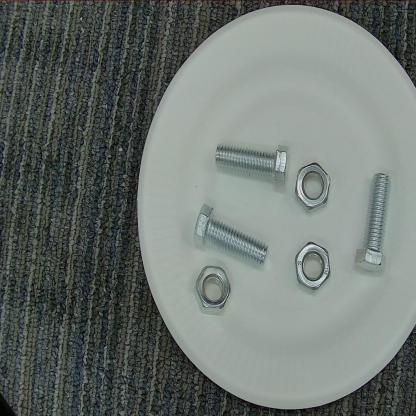FOD: (190, 198, 271, 272), (351, 167, 395, 279), (213, 139, 293, 193), (189, 262, 237, 316), (294, 155, 332, 219), (294, 239, 333, 298)
